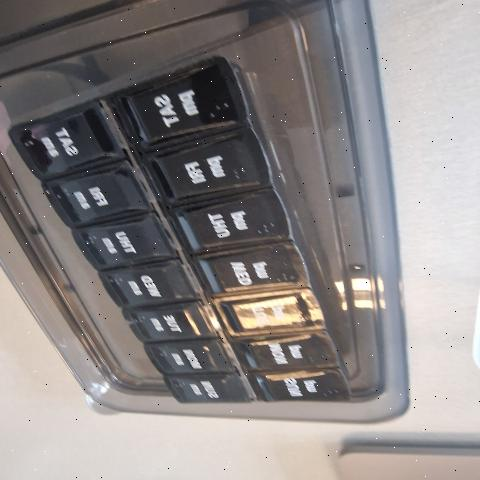PillBox: (8, 48, 414, 421)
